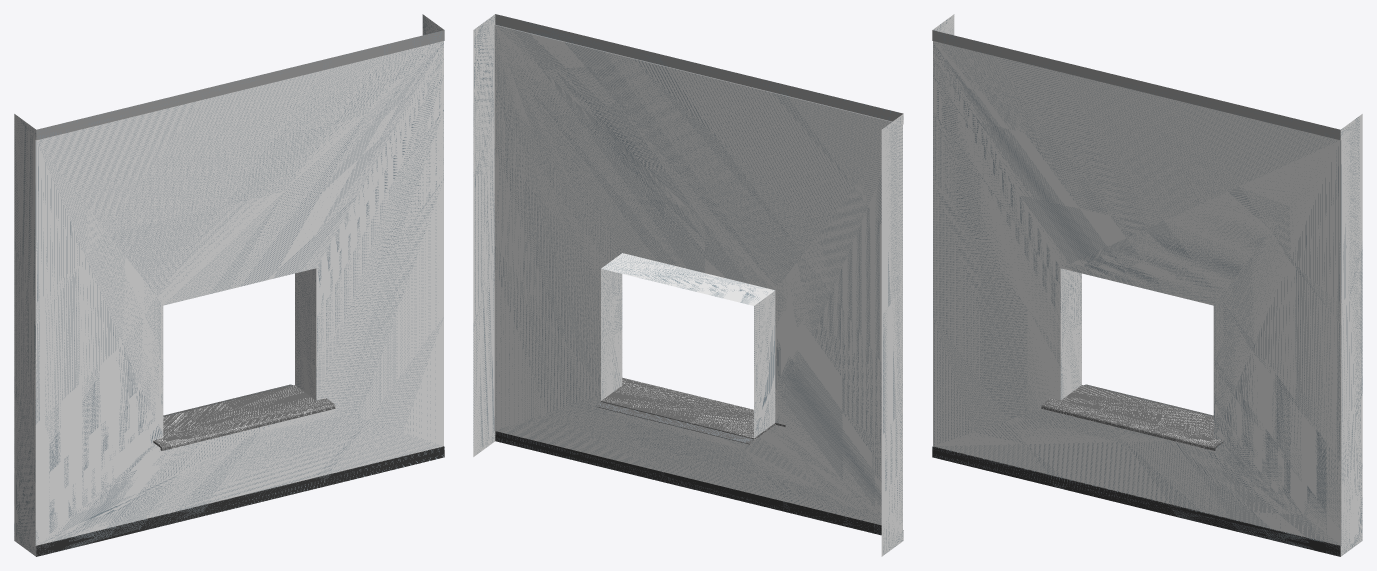
Rendered from WindowBlock_os_plinth_[400x400]_150x124x[080].dae.
3 renders of one model, left to right at view 1: azimuth 30°, elevation 25°; view 2: azimuth 150°, elevation 25°; view 3: azimuth 330°, elevation 25°, orthographic.
Visible parts, largest first — view 1: group_2 (×4), group_1; view 2: group_2 (×4), group_1 (×2); view 3: group_2 (×4), group_1.
Part boxes in pixels (x1,y1,x2,y2): group_2 (×4): (14, 14, 444, 556); group_1: (153, 385, 335, 450); group_2 (×4): (473, 14, 903, 556); group_1 (×2): (597, 377, 785, 444); group_2 (×4): (932, 14, 1362, 556); group_1: (1041, 385, 1223, 450).
Bounding box in the file's own units: 157 × 23.03 × 157.
